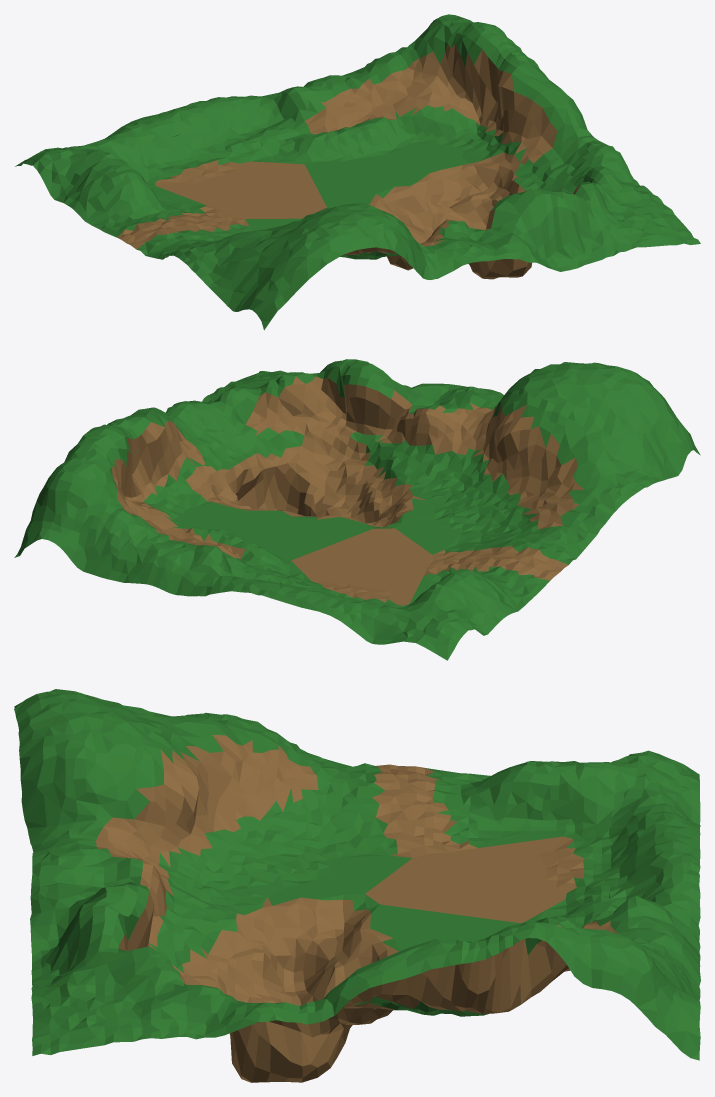
The model's file is terrain2.glb.
3 renders of one model, top to bottom at view 1: azimuth 30°, elevation 25°; view 2: azimuth 150°, elevation 25°; view 3: azimuth 270°, elevation 25°, orthographic. The views are drawn at different scales.
Visible parts, largest first — view 1: Grid-col; view 2: Grid-col; view 3: Grid-col.
Part boxes in pixels (bbox=[...]): Grid-col: bbox=[15, 14, 700, 330]; Grid-col: bbox=[14, 359, 700, 660]; Grid-col: bbox=[14, 689, 700, 1082].
Bounding box in the file's own units: 156 × 55.86 × 154.
